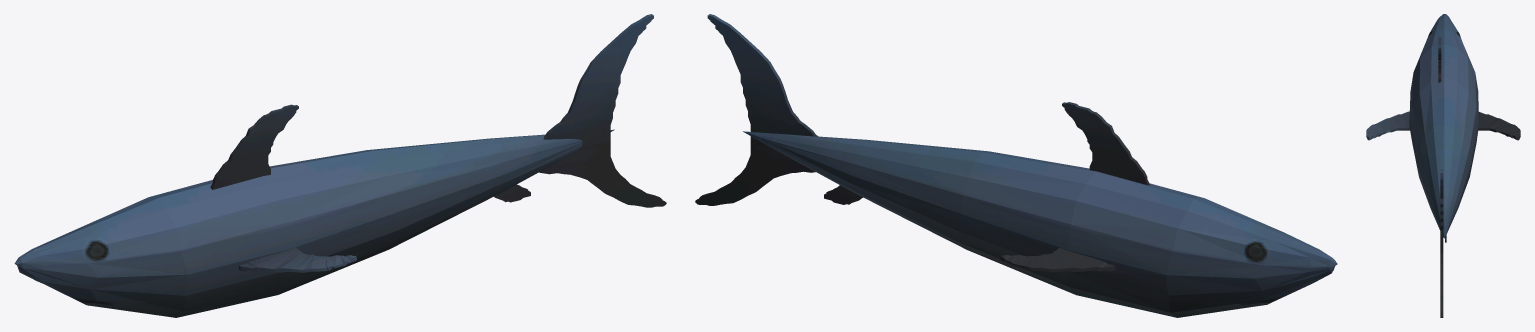
Rendered from Shark.glb.
3 renders of one model, left to right at view 1: azimuth 30°, elevation 25°; view 2: azimuth 150°, elevation 25°; view 3: azimuth 270°, elevation 25°, orthographic. The views are drawn at different scales.
Parts seen in each view (by area): view 1: Shark; view 2: Shark; view 3: Shark.
Boxes of the visible parts, x1,y1,x2,y2 form: Shark: (14,14,666,317); Shark: (695,14,1337,317); Shark: (1366,14,1520,317).
Size of the model in its own units: 116 by 33.14 by 32.79.
1 material, 1 textured.
